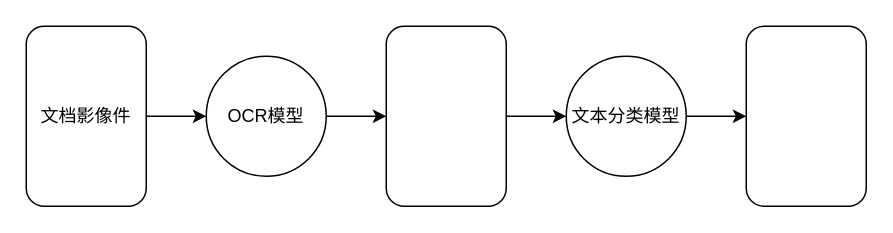
Some shapes in this 893 by 233 pixel diagram are drawn without their labels. Here are the shapes that lost their labels. From the top down, the box of each, then its label:
(385, 25, 506, 206): 内容文本
(745, 25, 866, 206): 文档类型
